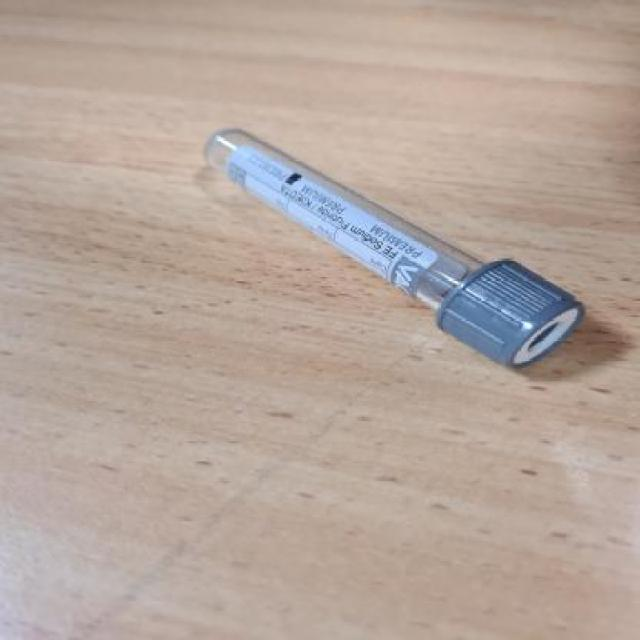Experimental-tube: (201, 126, 590, 372)
